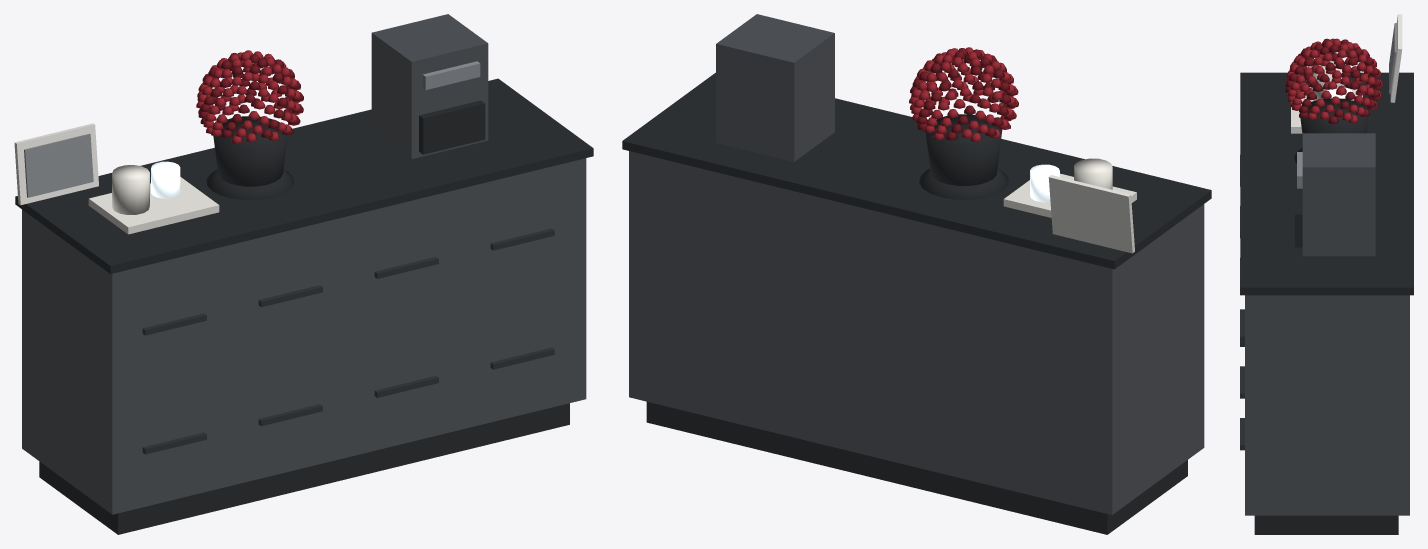
The model's file is Dining_Buffet.glb.
3 views of the same model, side by side, from view 1: azimuth 30°, elevation 25°; view 2: azimuth 150°, elevation 25°; view 3: azimuth 270°, elevation 25° (orthographic). The views are drawn at different scales.
Parts seen in each view (by area): view 1: root; view 2: root; view 3: root.
Part boxes in pixels (<box>): root: <box>14,14,593,534</box>; root: <box>622,14,1211,534</box>; root: <box>1240,14,1413,534</box>.
Size of the model in its own units: 1.64 by 1.29 by 0.5523.
